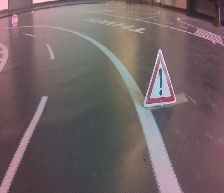warning sign: (143, 47, 178, 108)
